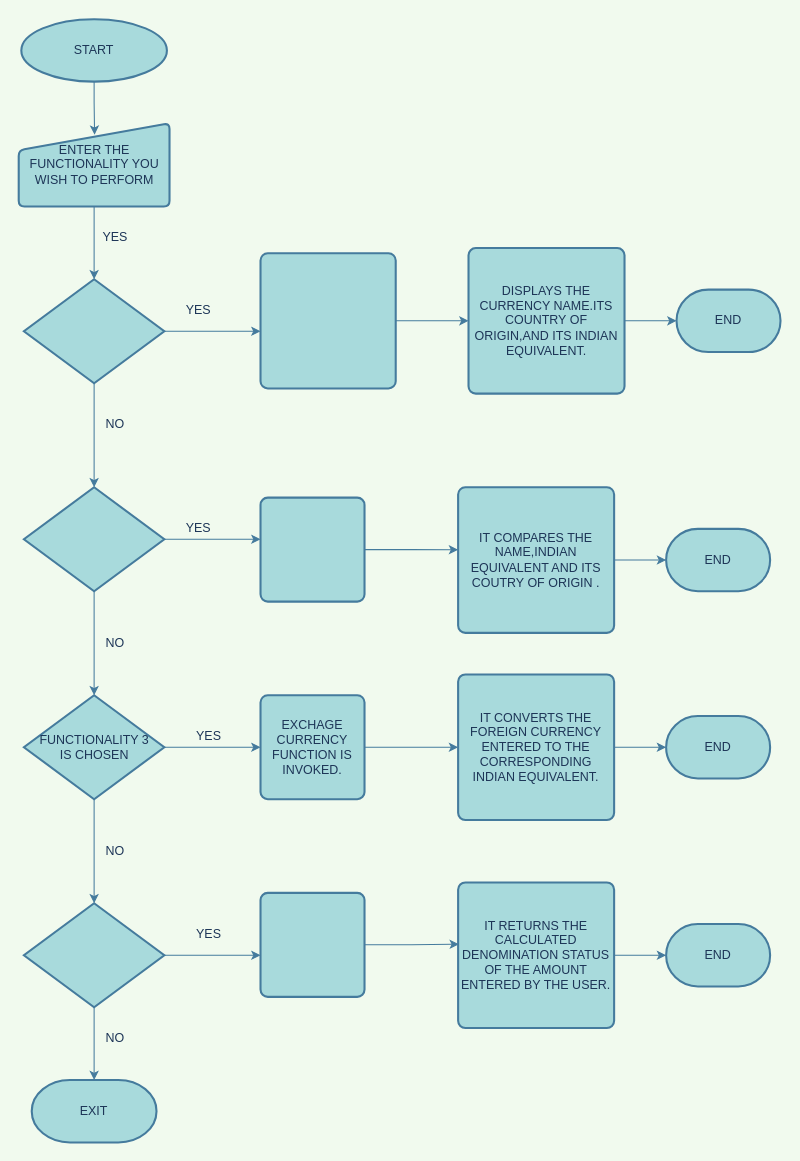
This 800x1161 diagram has some shape labels left out. The shapes that lost their labels are listed below. From the top down, each one's centre as x and y in pixels, then its label:
At (93,331): "FUNCTIONALITY 1 IS CHOSEN".
At (327,320): "EXPLORE CURRENCIES FUNCTION IS INVOKED.".
At (93,539): "FUNCTIONALITY 2 IS CHOSEN".
At (312,549): "COMPARE CURRENCIES FUNCTION IS INVPKED.".
At (93,955): "FUNCTIONALITY 4 IS CHOSEN".
At (312,944): "DENOMINATION CALCULATOR FUNCTION IS INVOKED.".
